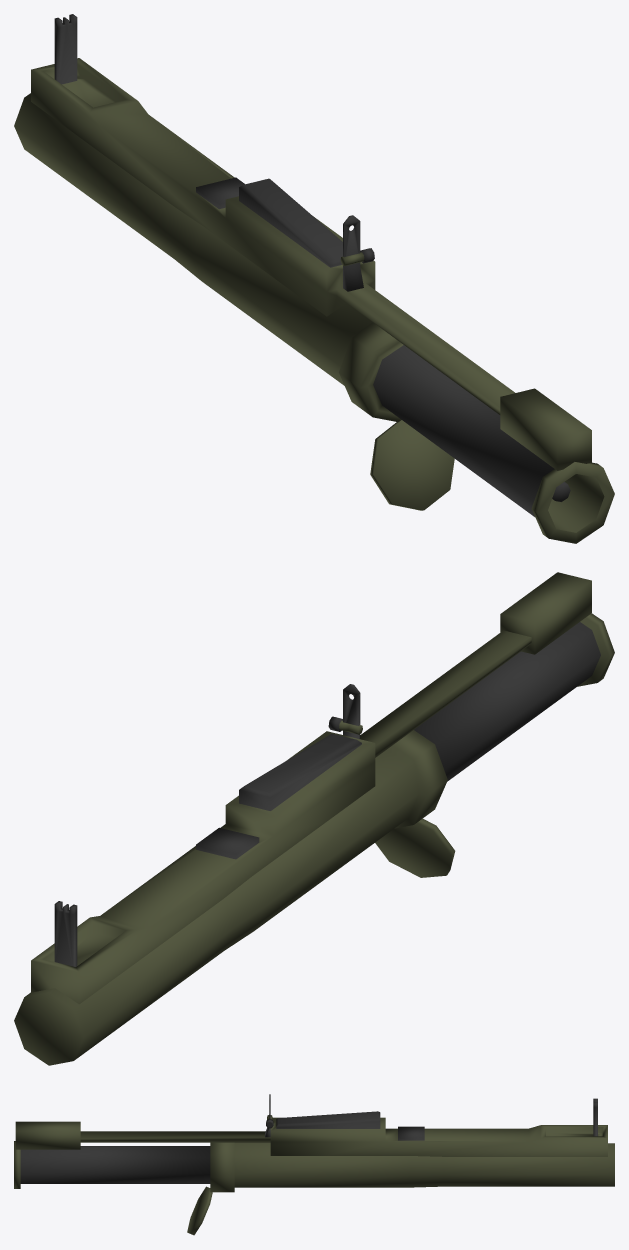
File: M72_PivotFixed.fbx
The picture shows the model from 3 angles, top to bottom: view 1: azimuth 30°, elevation 25°; view 2: azimuth 150°, elevation 25°; view 3: azimuth 270°, elevation 25°; orthographic projection. The views are drawn at different scales.
Parts seen in each view (by area): view 1: M72; view 2: M72; view 3: M72.
Part boxes in pixels (<box>): M72: <box>14,14,614,543</box>; M72: <box>14,572,614,1065</box>; M72: <box>14,1094,614,1235</box>.
Size of the model in its own units: 47.47 by 126 by 493.
